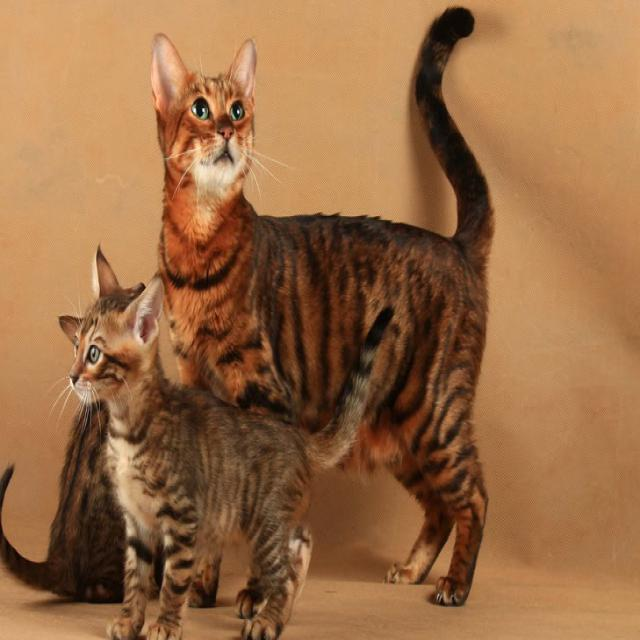Toyger: (146, 2, 498, 610), (68, 237, 396, 640)
